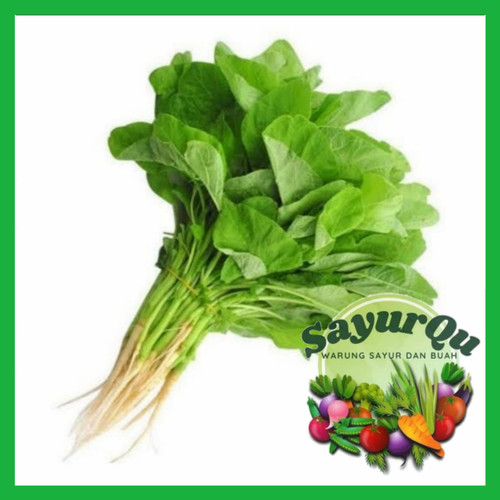Bayam: (72, 28, 302, 469)
